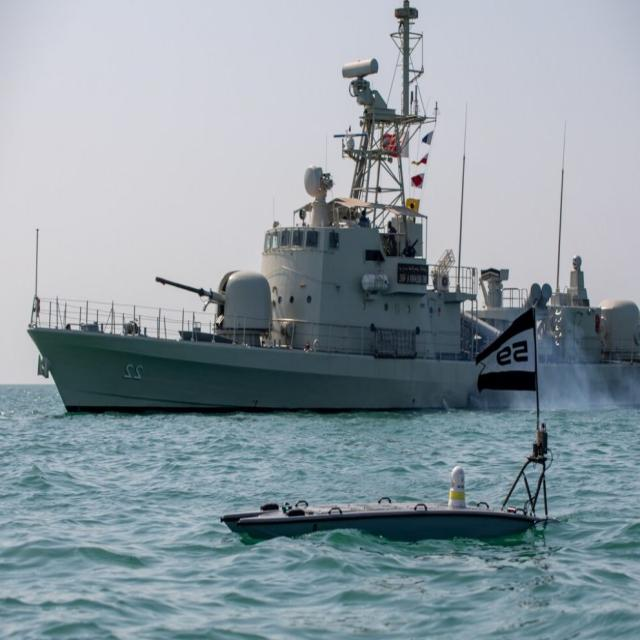navalvessels: (13, 11, 640, 431)
